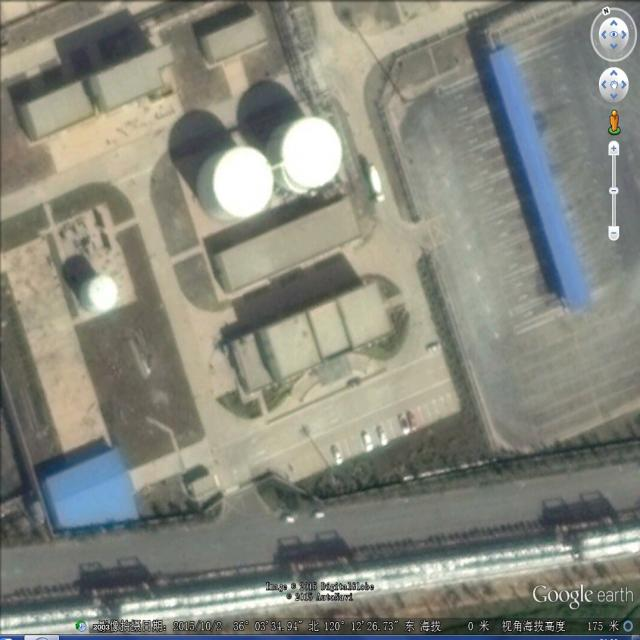oiltank: (263, 112, 345, 201), (196, 141, 276, 232), (78, 271, 121, 318)
